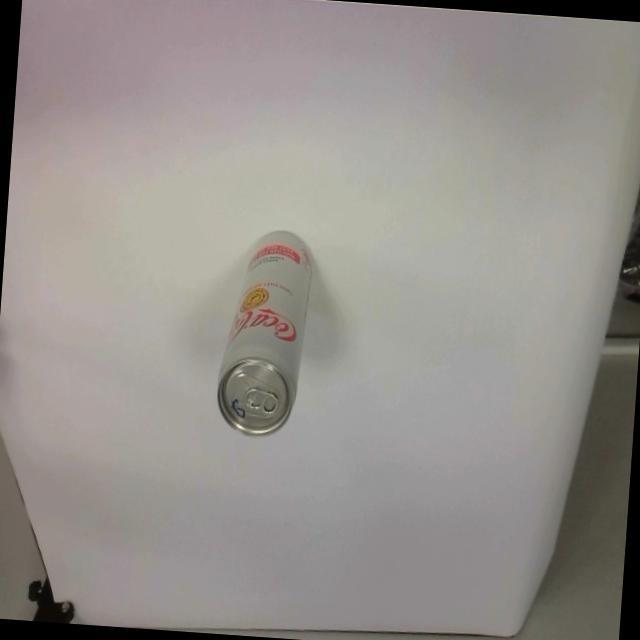debris: (212, 224, 316, 441)
